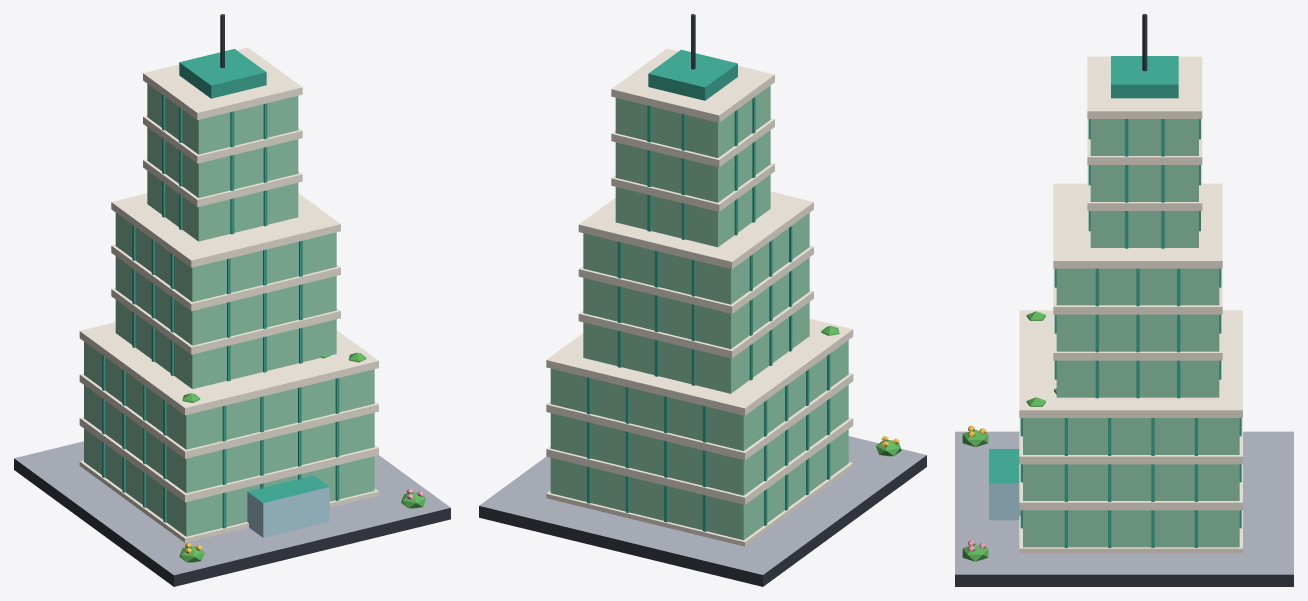
Rendered from office_stepped.glb.
The picture shows the model from 3 angles, left to right: view 1: azimuth 30°, elevation 25°; view 2: azimuth 150°, elevation 25°; view 3: azimuth 270°, elevation 25°; orthographic projection. The views are drawn at different scales.
Visible parts, largest first — view 1: office_stepped; view 2: office_stepped; view 3: office_stepped.
Part boxes in pixels (box(x1,y1,x2,y2)): office_stepped: box(14, 14, 450, 586); office_stepped: box(479, 14, 926, 586); office_stepped: box(955, 14, 1293, 586).
Bounding box in the file's own units: 1 × 1.63 × 1.
